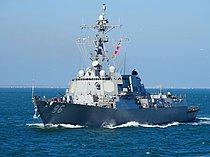MIL_Ship: (30, 10, 200, 126)
